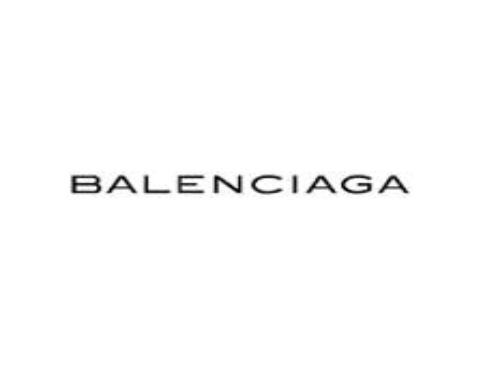BALENCIAGA: (66, 169, 414, 201)
